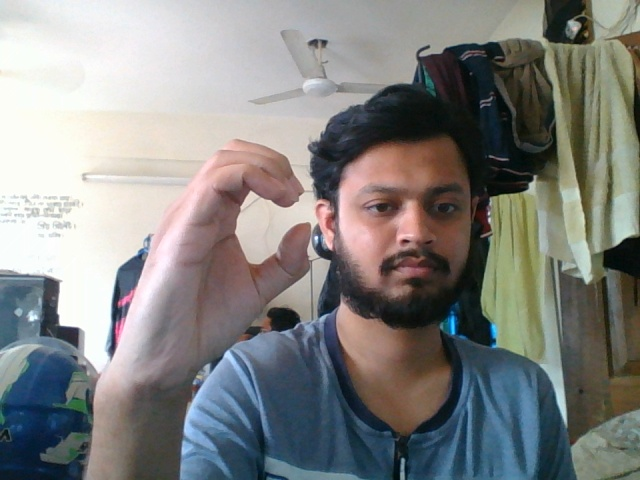ka: (125, 134, 316, 417)
